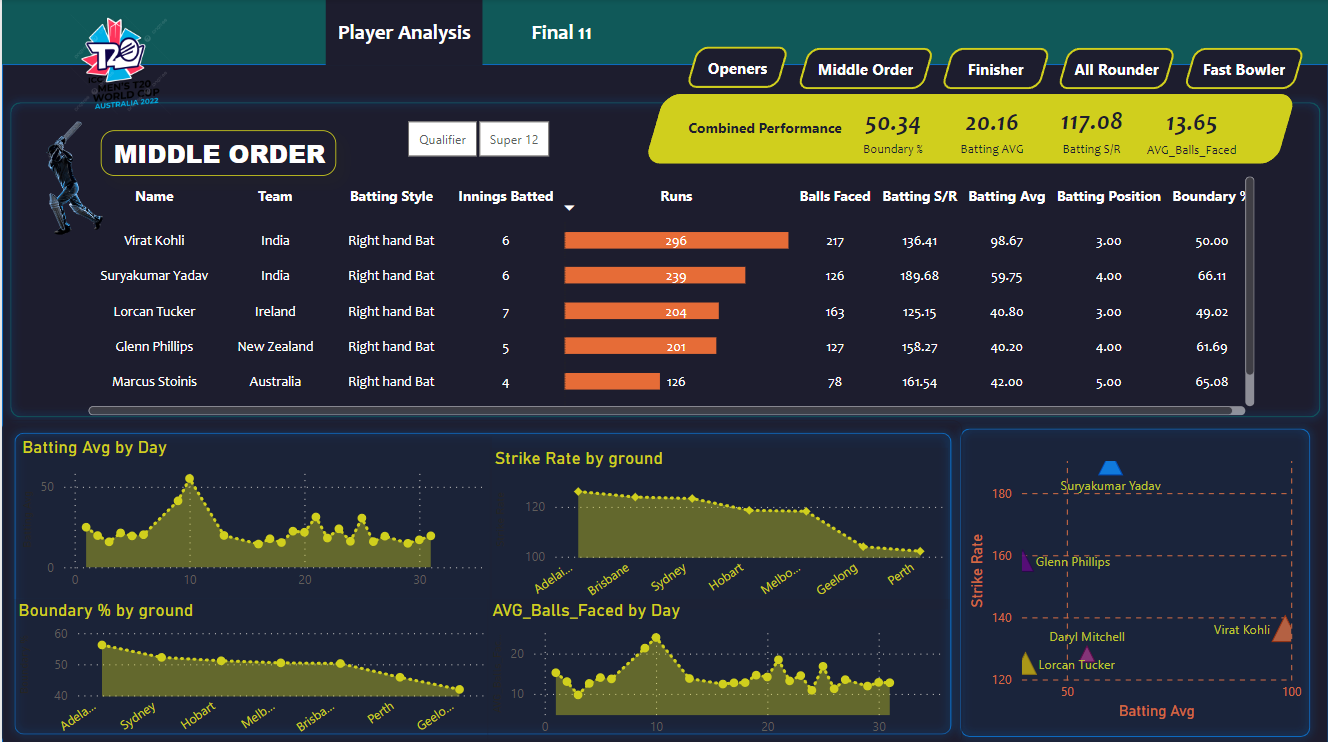

Layout of this report page (visuals, bound fields, positions):
{"tool":"powerbi","page":{"name":"MIDDLE ORDER","canvas":[1280,720],"ordinal":1},"visuals":[{"type":"shape","box":[0,62.5,1280,657.5],"z":0},{"type":"shape","box":[0,91.2,1280,320],"z":1000},{"type":"tableEx","fields":{"Values":["player_info.name","player_info.team","player_info.battingStyle","Key_Measures.Total Innings Batted","Key_Measures.Total Runs","Key_Measures.total balls faced","Key_Measures.Strike Rate","Key_Measures.Batting Avg","Key_Measures.Batting Position","Key_Measures.Boundary %"]},"box":[77.5,166.2,1136.2,240],"z":2000},{"type":"scatterChart","fields":{"Category":["player_info.name"],"X":["Key_Measures.Batting Avg"],"Y":["Key_Measures.Strike Rate"],"Series":["player_info.name"],"Size":["Key_Measures.Total Runs"]},"box":[927.5,432.5,331.2,267.5],"z":3000},{"type":"shape","box":[916.2,406.2,353.8,313.8],"z":4000},{"type":"shape","box":[620,91.2,628.8,67.5],"z":5000},{"type":"card","fields":{"Values":["Key_Measures.Batting Avg"]},"box":[885.6,91.6,140,67.5],"z":6000},{"type":"card","fields":{"Values":["Key_Measures.Strike Rate"]},"box":[985.3,92.2,132.5,66.2],"z":7000},{"type":"card","fields":{"Values":["Key_Measures.Boundary %"]},"box":[793.4,91.6,132.5,67.5],"z":8000},{"type":"card","fields":{"Values":["Key_Measures.AVG_Balls_Faced"]},"box":[1081.2,92.5,132.5,66.2],"z":9000},{"type":"shape","box":[637.5,102.5,196.2,43.8],"z":10000},{"type":"shape","box":[0,406.2,926.2,313.8],"z":11000},{"type":"actionButton","box":[660,46.2,100,40],"z":12000},{"type":"actionButton","box":[766.6,46.6,132.5,40],"z":13000},{"type":"actionButton","box":[905.6,46.9,106.2,40],"z":14000},{"type":"actionButton","box":[1018.4,47.2,115,40],"z":15000},{"type":"actionButton","box":[1140,47.5,117.5,40],"z":16000},{"type":"slicer","fields":{"Values":["match_summary.Stage"]},"box":[365,111.2,186.2,47.5],"z":17000},{"type":"areaChart","fields":{"Y":["Key_Measures.Batting Avg"],"Category":["match_summary.matchDate.Variation.Date Hierarchy.Day"]},"box":[15,422.5,458.8,156.2],"z":18000},{"type":"areaChart","fields":{"Y":["Key_Measures.Strike Rate"],"Category":["match_summary.ground"]},"box":[470,432.5,442.5,156.2],"z":19000},{"type":"areaChart","fields":{"Y":["Key_Measures.Boundary %"],"Category":["match_summary.ground"]},"box":[11.2,578.8,458.8,141.2],"z":20000},{"type":"areaChart","fields":{"Y":["Key_Measures.AVG_Balls_Faced"],"Category":["match_summary.matchDate.Variation.Date Hierarchy.Day"]},"box":[467.5,578.8,446.2,141.2],"z":21000},{"type":"image","box":[58.8,0,111.2,126.2],"z":22000},{"type":"textbox","title":"MIDDLE ORDER","box":[95,126.2,227.5,43.8],"z":23000},{"type":"image","box":[0,111.2,137.5,123.8],"z":24000},{"type":"actionButton","title":"Player Analysis","box":[312.5,0,151.2,63.8],"z":25000},{"type":"actionButton","title":"Player Analysis","box":[463.8,0,151.2,62.5],"z":26000}]}

Visuals, with their boxes in screenshot pixels (x1, y1, x2, y2), scaled from the page's 1280x720 canvas onto the 1328x742 screenshot:
shape: [0, 64, 1327, 741]
shape: [0, 94, 1327, 424]
tableEx - player_info.name x player_info.team: [80, 171, 1259, 419]
scatterChart - player_info.name x Key_Measures.Batting Avg: [962, 446, 1306, 721]
shape: [951, 419, 1318, 741]
shape: [643, 94, 1296, 164]
card - Key_Measures.Batting Avg: [919, 94, 1064, 164]
card - Key_Measures.Strike Rate: [1022, 95, 1160, 163]
card - Key_Measures.Boundary %: [823, 94, 961, 164]
card - Key_Measures.AVG_Balls_Faced: [1122, 95, 1259, 164]
shape: [661, 106, 865, 151]
shape: [0, 419, 961, 741]
actionButton: [685, 48, 789, 89]
actionButton: [795, 48, 933, 89]
actionButton: [940, 48, 1050, 90]
actionButton: [1057, 49, 1176, 90]
actionButton: [1183, 49, 1305, 90]
slicer - match_summary.Stage: [379, 115, 572, 164]
areaChart - Key_Measures.Batting Avg x match_summary.matchDate.Variation.Date Hierarchy.Day: [16, 435, 492, 596]
areaChart - Key_Measures.Strike Rate x match_summary.ground: [488, 446, 947, 607]
areaChart - Key_Measures.Boundary % x match_summary.ground: [12, 596, 488, 741]
areaChart - Key_Measures.AVG_Balls_Faced x match_summary.matchDate.Variation.Date Hierarchy.Day: [485, 596, 948, 741]
image: [61, 0, 176, 130]
"MIDDLE ORDER" textbox: [99, 130, 335, 175]
image: [0, 115, 143, 242]
"Player Analysis" actionButton: [324, 0, 481, 66]
"Player Analysis" actionButton: [481, 0, 638, 64]
